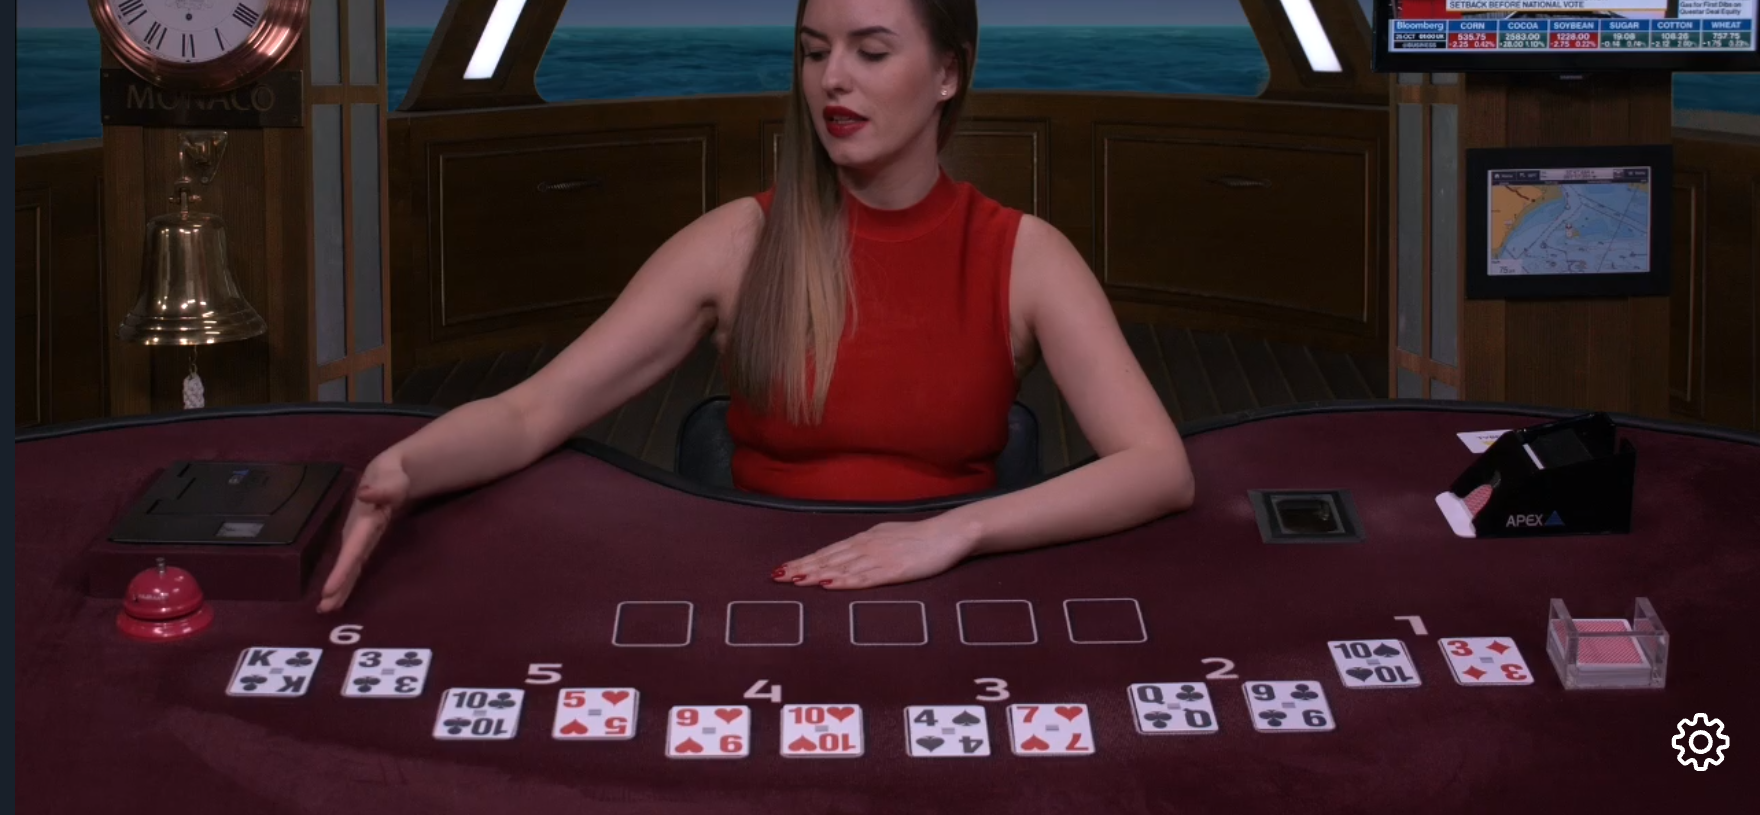10c: (432, 684, 525, 742)
10h: (778, 704, 869, 760)
10s: (1324, 634, 1426, 689)
3c: (343, 645, 427, 699)
3d: (1438, 635, 1536, 687)
4s: (902, 706, 994, 762)
5h: (553, 681, 639, 747)
7h: (1010, 697, 1096, 757)
9c: (1238, 677, 1336, 734)
9h: (664, 702, 753, 757)
kc: (230, 643, 319, 699)
qc: (1128, 678, 1223, 736)
